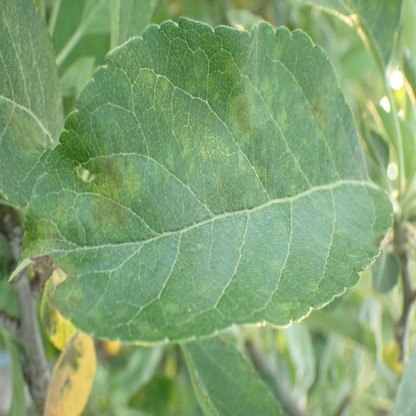scab: (29, 199, 69, 259), (92, 148, 139, 196), (50, 263, 82, 314), (228, 89, 256, 145), (2, 112, 38, 151), (89, 193, 124, 227), (309, 88, 329, 132), (258, 79, 271, 125), (142, 73, 167, 92), (226, 57, 244, 80), (369, 230, 388, 249), (86, 309, 104, 328), (330, 211, 343, 236), (211, 164, 223, 188), (276, 107, 286, 133), (164, 301, 181, 316), (114, 307, 129, 320), (199, 198, 209, 217), (277, 300, 294, 311), (203, 74, 214, 91), (272, 43, 283, 60), (292, 154, 300, 175), (243, 188, 255, 201), (188, 157, 196, 175), (167, 151, 175, 168), (278, 221, 286, 237), (188, 82, 197, 94), (272, 79, 279, 93), (289, 184, 297, 195), (281, 89, 288, 101), (183, 140, 188, 155), (213, 92, 220, 100)
